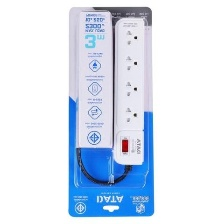book: (67, 3, 154, 218)
three_eye_plug: (109, 15, 146, 168)
